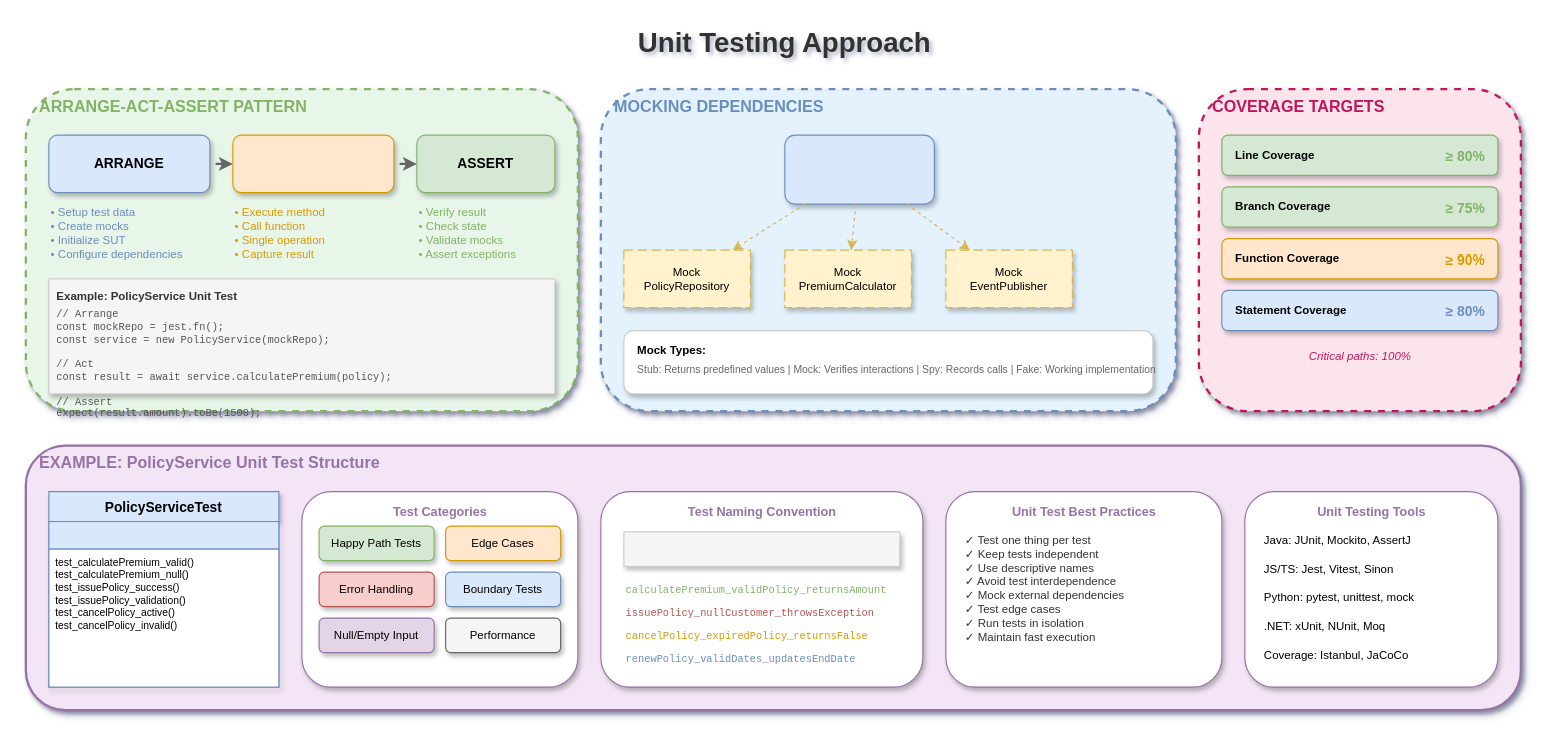
The diagram is 1555 pixels wide and 745 high, and some of its shapes have lost their labels. Here are the shapes that lost their labels. From the top down, the centre of each, then its label:
(314,165): ACT
(860,170): PolicyService (System Under Test)
(163,534): @BeforeEach setUp()
(762,550): method_scenario_expectedResult
